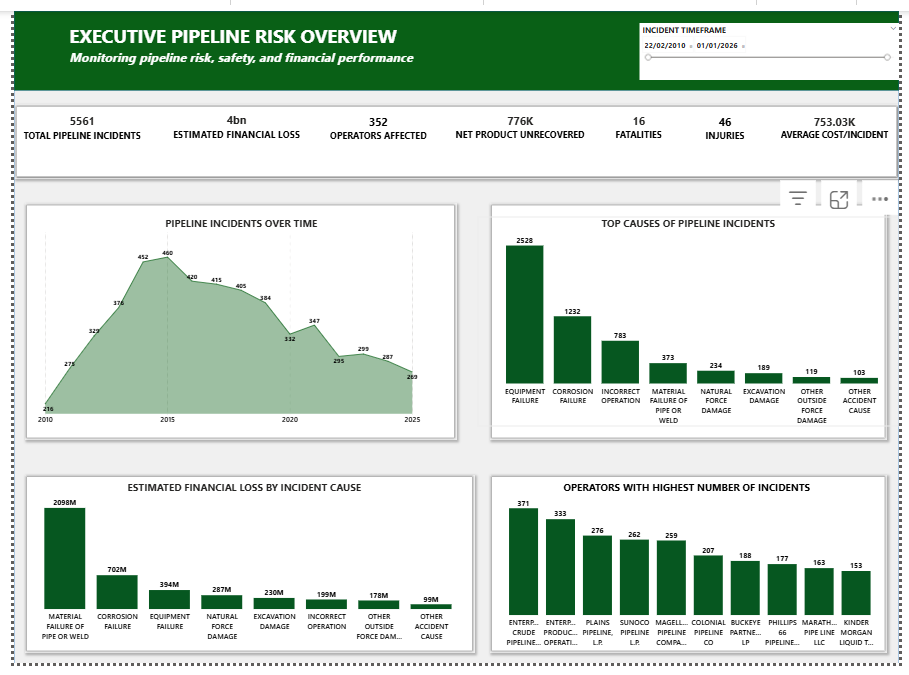

Layout of this report page (visuals, bound fields, positions):
{"tool":"powerbi","page":{"name":"executive_overview","canvas":[3800,2800],"ordinal":0},"visuals":[{"type":"shape","box":[0,0,3800.7,2802.2],"z":0},{"type":"shape","box":[0,0,3800.7,341.4],"z":1000},{"type":"shape","box":[2042.1,1990.5,1707.1,766.6],"z":2000},{"type":"shape","box":[2042.1,824.6,1707.1,1017.8],"z":3000},{"type":"shape","box":[45.1,1990.5,1932.6,766.6],"z":4000},{"type":"shape","box":[45.1,824.6,1855.3,1017.8],"z":5000},{"type":"shape","box":[0,399.4,3800.7,322.1],"z":6000},{"type":"cardVisual","fields":{"Data":["keystra_solution2 pipeline_incidents.Total Pipeline Incidents"]},"box":[0,393,586.2,212.6],"z":7000},{"type":"cardVisual","fields":{"Data":["keystra_solution2 pipeline_incidents.Total Estimated Financial Loss"]},"box":[644.2,380.1,624.9,231.9],"z":8000},{"type":"cardVisual","fields":{"Data":["keystra_solution2 pipeline_incidents.Total Fatalities"]},"box":[2551,380.1,264.1,238.3],"z":9000},{"type":"cardVisual","fields":{"Data":["keystra_solution2 pipeline_incidents.Total Injuries"]},"box":[2860.2,399.4,386.5,206.1],"z":10000},{"type":"cardVisual","fields":{"Data":["keystra_solution2 pipeline_incidents.Operators Affected"]},"box":[1320.6,399.4,489.6,206.1],"z":11000},{"type":"cardVisual","fields":{"Data":["keystra_solution2 pipeline_incidents.Average Cost per Incident"]},"box":[3246.7,367.2,554,264.1],"z":12000},{"type":"cardVisual","fields":{"Data":["keystra_solution2 pipeline_incidents.Net Product Unrecovered"]},"box":[1855.3,399.4,637.7,199.7],"z":13000},{"type":"lineChart","title":"PIPELINE INCIDENTS OVER TIME ","fields":{"Category":["keystra_solution2 pipeline_incidents.IYEAR"],"Y":["keystra_solution2 pipeline_incidents.Total Pipeline Incidents"]},"box":[96.6,882.5,1758.6,901.9],"z":14000},{"type":"clusteredColumnChart","title":"TOP CAUSES OF PIPELINE INCIDENTS","fields":{"Category":["keystra_solution2 pipeline_incidents.CAUSE"],"Y":["keystra_solution2 pipeline_incidents.Total Pipeline Incidents"]},"box":[1990.5,882.5,1810.2,901.9],"z":15000},{"type":"clusteredColumnChart","title":"OPERATORS WITH HIGHEST NUMBER OF INCIDENTS","fields":{"Category":["keystra_solution2 pipeline_incidents.NAME"],"Y":["keystra_solution2 pipeline_incidents.Total Pipeline Incidents"]},"box":[2029.2,2016.3,1720,721.5],"z":16000},{"type":"clusteredColumnChart","title":"ESTIMATED FINANCIAL LOSS BY INCIDENT CAUSE","fields":{"Category":["keystra_solution2 pipeline_incidents.CAUSE"],"Y":["keystra_solution2 pipeline_incidents.Total Estimated Financial Loss"]},"box":[0,2016.3,1977.7,695.7],"z":17000},{"type":"slicer","fields":{"Values":["keystra_solution2 pipeline_incidents.INCIDENT_IDENTIFIED_DATETIME"]},"box":[2686.3,51.5,1114.4,244.8],"z":18000},{"type":"textbox","title":"EXECUTIVE PIPELINE RISK OVERVIEW","box":[231.9,51.5,1810.2,244.8],"z":19000}]}

Visuals, with their boxes in screenshot pixels (x1, y1, x2, y2), scaled from the page's 3800x2800 canvas onto the 909x675 screenshot:
shape: box=[0, 0, 908, 674]
shape: box=[0, 0, 908, 82]
shape: box=[488, 480, 897, 665]
shape: box=[488, 199, 897, 444]
shape: box=[11, 480, 473, 665]
shape: box=[11, 199, 455, 444]
shape: box=[0, 96, 908, 174]
cardVisual - keystra_solution2 pipeline_incidents.Total Pipeline Incidents: box=[0, 95, 140, 146]
cardVisual - keystra_solution2 pipeline_incidents.Total Estimated Financial Loss: box=[154, 92, 304, 148]
cardVisual - keystra_solution2 pipeline_incidents.Total Fatalities: box=[610, 92, 673, 149]
cardVisual - keystra_solution2 pipeline_incidents.Total Injuries: box=[684, 96, 777, 146]
cardVisual - keystra_solution2 pipeline_incidents.Operators Affected: box=[316, 96, 433, 146]
cardVisual - keystra_solution2 pipeline_incidents.Average Cost per Incident: box=[777, 89, 908, 152]
cardVisual - keystra_solution2 pipeline_incidents.Net Product Unrecovered: box=[444, 96, 596, 144]
"PIPELINE INCIDENTS OVER TIME " lineChart: box=[23, 213, 444, 430]
"TOP CAUSES OF PIPELINE INCIDENTS" clusteredColumnChart: box=[476, 213, 908, 430]
"OPERATORS WITH HIGHEST NUMBER OF INCIDENTS" clusteredColumnChart: box=[485, 486, 897, 660]
"ESTIMATED FINANCIAL LOSS BY INCIDENT CAUSE" clusteredColumnChart: box=[0, 486, 473, 654]
slicer - keystra_solution2 pipeline_incidents.INCIDENT_IDENTIFIED_DATETIME: box=[643, 12, 908, 71]
"EXECUTIVE PIPELINE RISK OVERVIEW" textbox: box=[55, 12, 488, 71]
